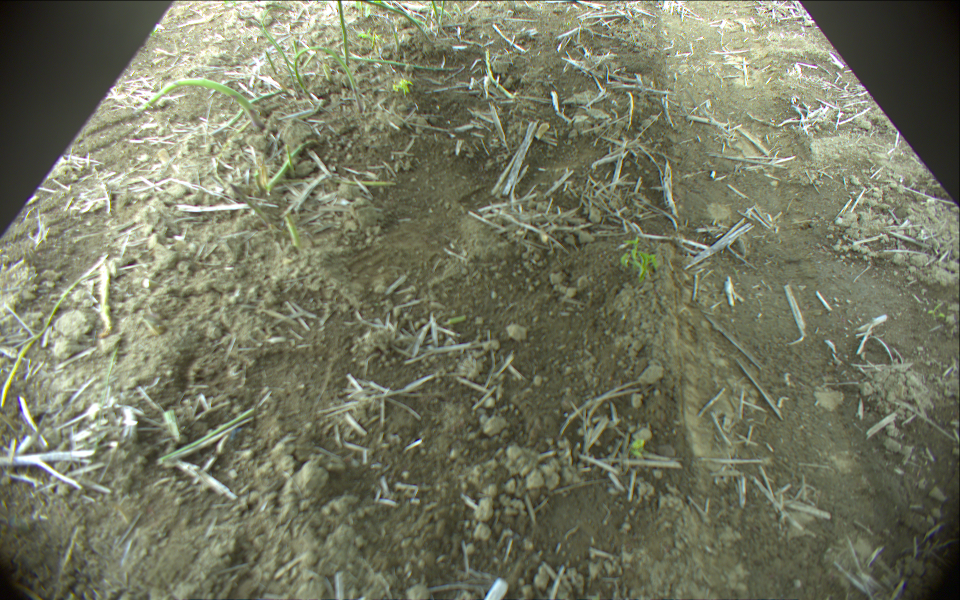aspa: (2, 254, 109, 411), (144, 76, 265, 134), (156, 404, 257, 465), (210, 88, 285, 135), (258, 6, 297, 87), (295, 45, 359, 90), (359, 1, 432, 40), (263, 142, 321, 189), (339, 53, 458, 73), (16, 395, 50, 448), (96, 258, 118, 337), (483, 47, 516, 99), (334, 1, 351, 66), (328, 178, 399, 189), (260, 51, 283, 83), (283, 145, 298, 177), (286, 213, 299, 248), (322, 61, 332, 82), (432, 1, 440, 21), (440, 1, 447, 20)
